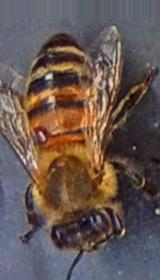varroa_mite: (26, 117, 53, 143)
